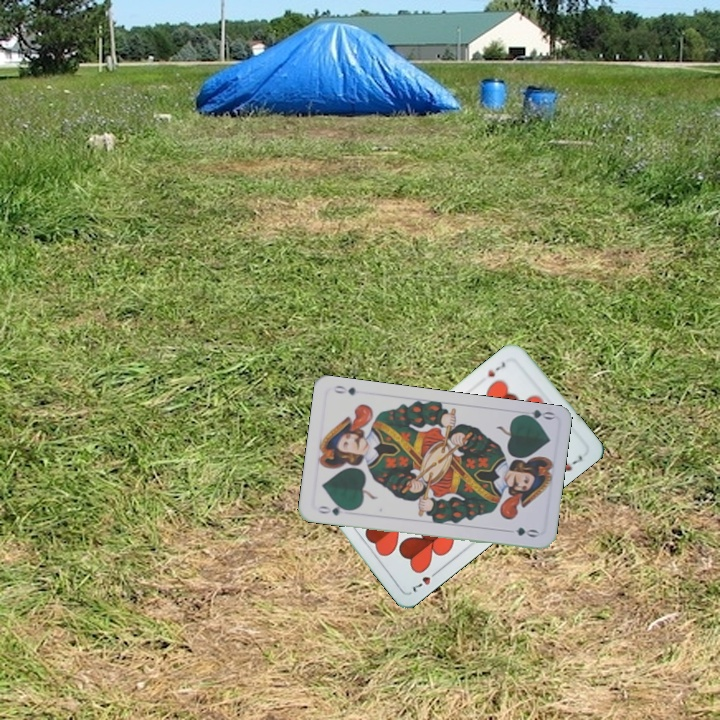GO: (515, 405, 556, 426), (313, 501, 353, 518)
H7: (407, 566, 442, 595), (483, 358, 508, 380)
